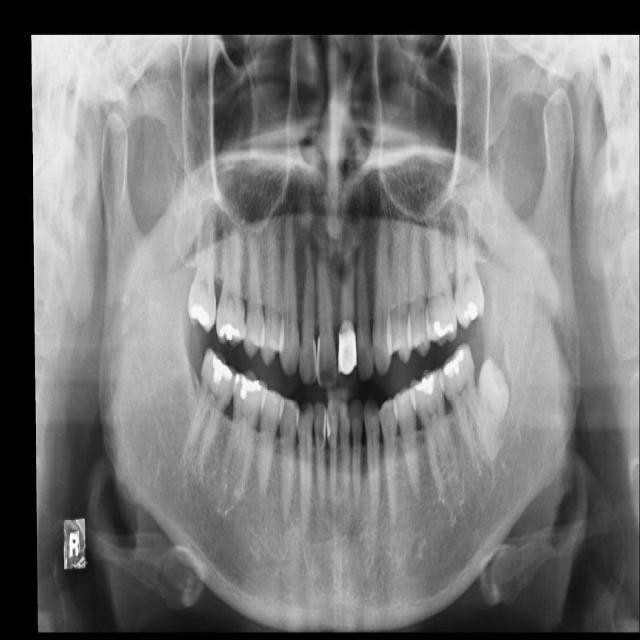Filling: (336, 324, 357, 386), (188, 302, 215, 330), (234, 374, 262, 400), (210, 353, 232, 382), (442, 350, 464, 378), (219, 322, 244, 346), (412, 373, 436, 395), (431, 319, 454, 339), (464, 302, 479, 325)
impacted tooth: (477, 359, 509, 455)
